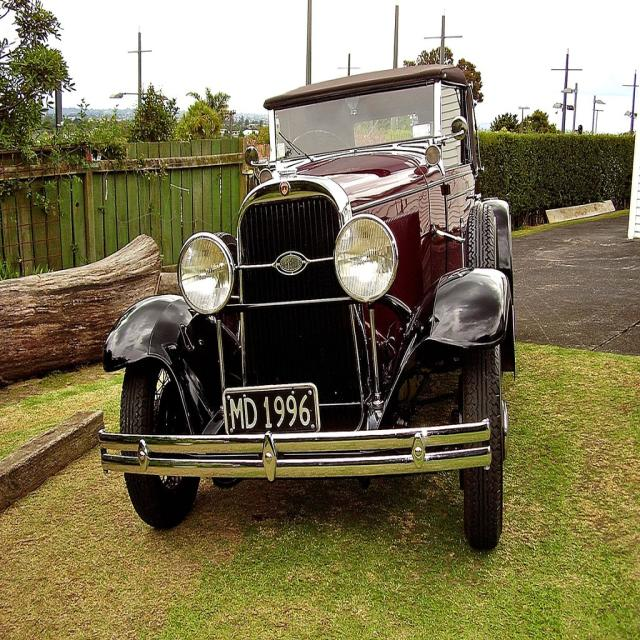car: (99, 64, 513, 556)
